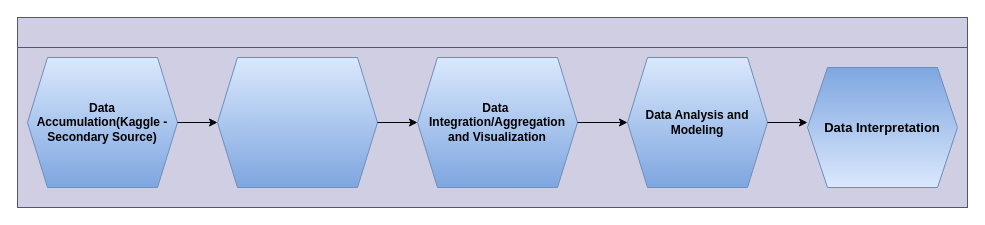
This 985x225 diagram has some shape labels left out. The shapes that lost their labels are listed below. From the top down, each one's centre as x and y in pixels, then its label:
At point 492,32: "Big Data Analytical Pipeline".
At point 297,122: "Data Cleaning and Imputation".
